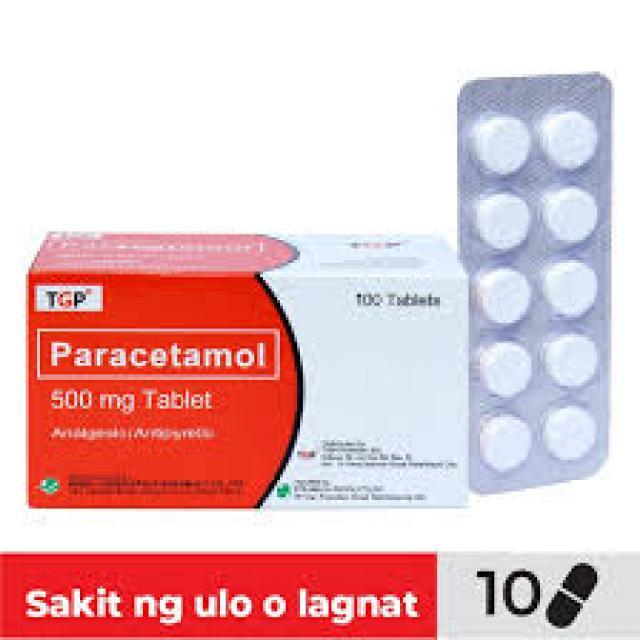authentic: (12, 211, 468, 523), (452, 64, 640, 500)
